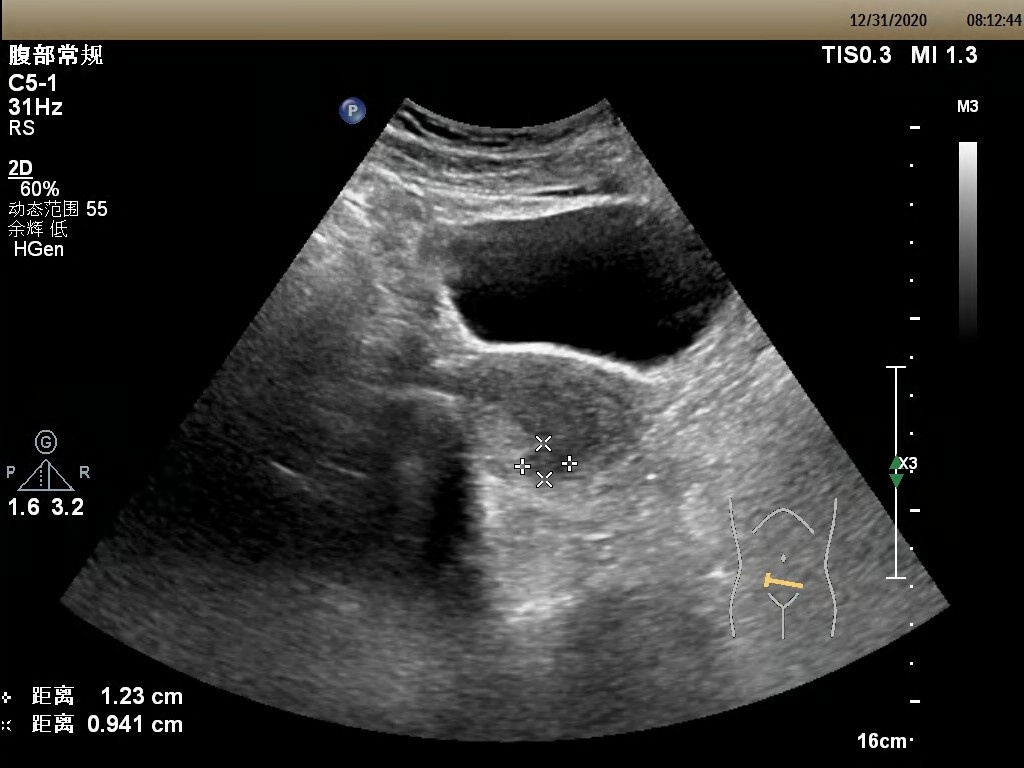肌瘤: (526, 441, 571, 482)
